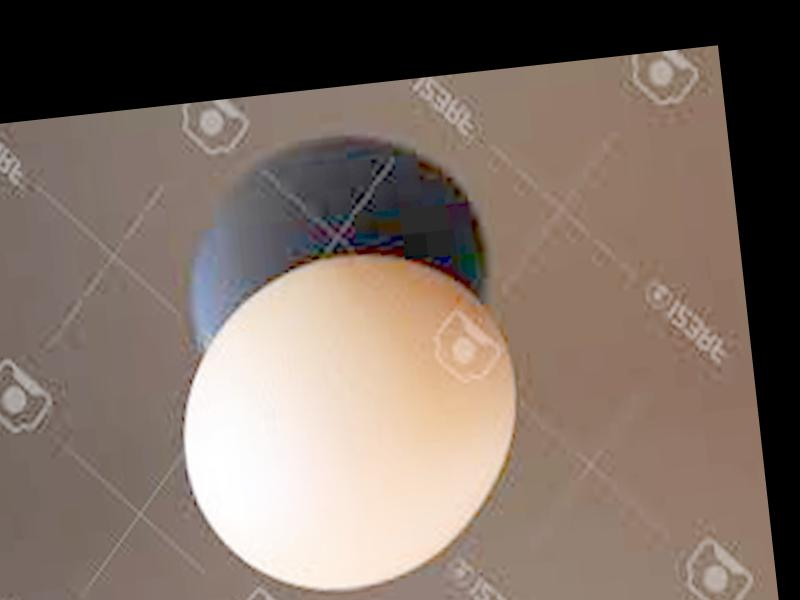Eggs: (164, 237, 532, 600)
